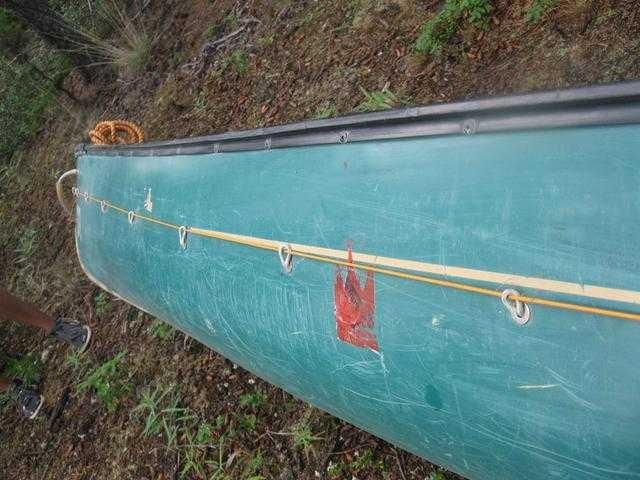kayak: (76, 81, 638, 479)
